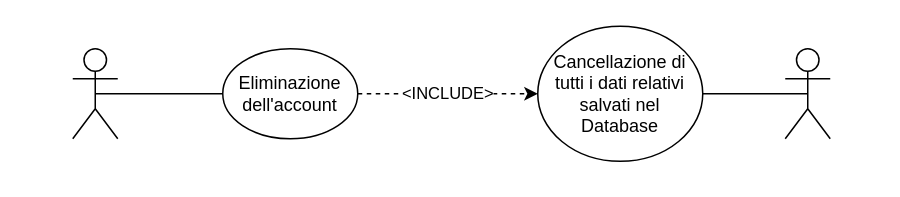
Some shapes in this 900 by 197 pixel diagram are drawn without their labels. The box of each missing label's shape, as (x1, y1, x2, y2) in pixels:
MongoDB Cloud: (784, 47, 830, 139)
Utente Registrato: (71, 47, 118, 139)
